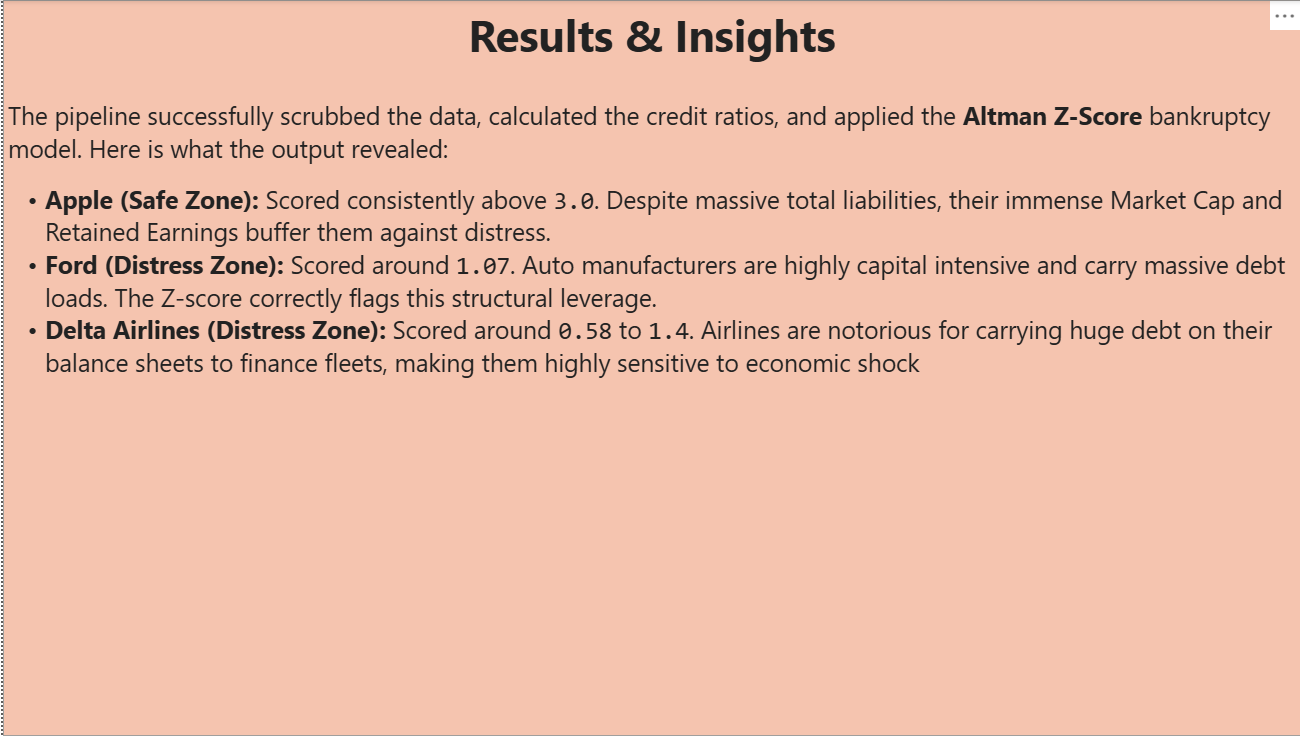

This screenshot's page, from the dashboard's own definition file:
{"tool":"powerbi","page":{"name":"Page 2","canvas":[1280,720],"ordinal":1},"visuals":[{"type":"textbox","title":"RESULTS AND INSUGHTS","box":[0,0,1269.6,719.9],"z":0}]}

Visuals, with their boxes in screenshot pixels (x1, y1, x2, y2), scaled from the page's 1280x720 canvas onto the 1300x736 screenshot:
"RESULTS AND INSUGHTS" textbox: <region>0, 0, 1289, 735</region>
